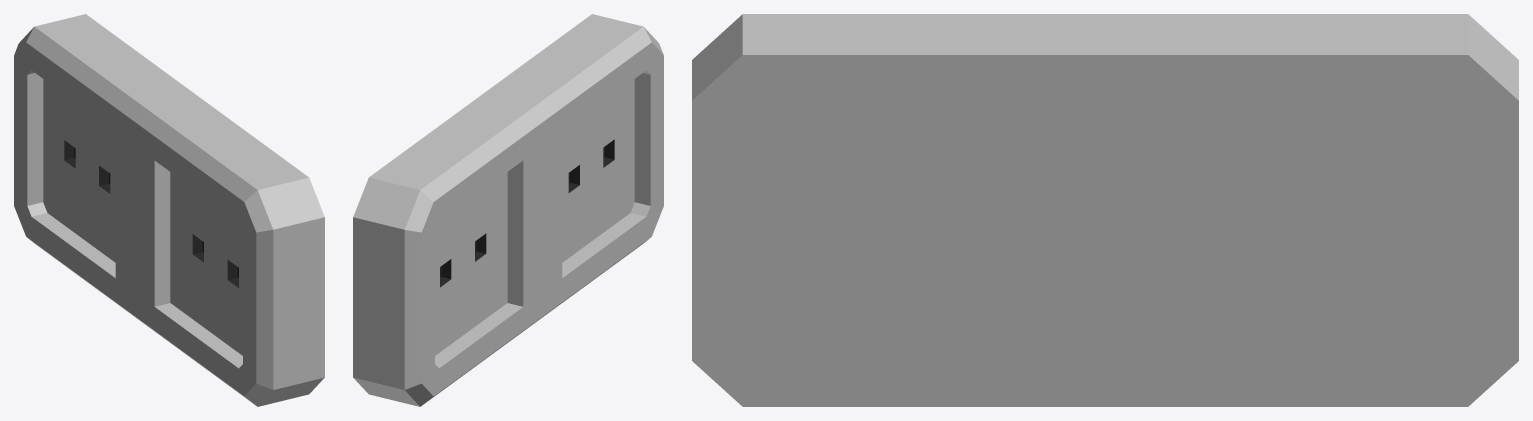
The model's file is Electron Connection.fbx.
3 views of the same model, side by side, from view 1: azimuth 30°, elevation 25°; view 2: azimuth 150°, elevation 25°; view 3: azimuth 270°, elevation 25° (orthographic). The views are drawn at different scales.
Parts seen in each view (by area): view 1: Electron Connection; view 2: Electron Connection; view 3: Electron Connection.
Boxes of the visible parts, box(x1,y1,x2,y2) form: Electron Connection: box(14, 14, 324, 406); Electron Connection: box(353, 14, 663, 406); Electron Connection: box(692, 14, 1518, 406).
Size of the model in its own units: 0.0316 by 0.1051 by 0.2235.
